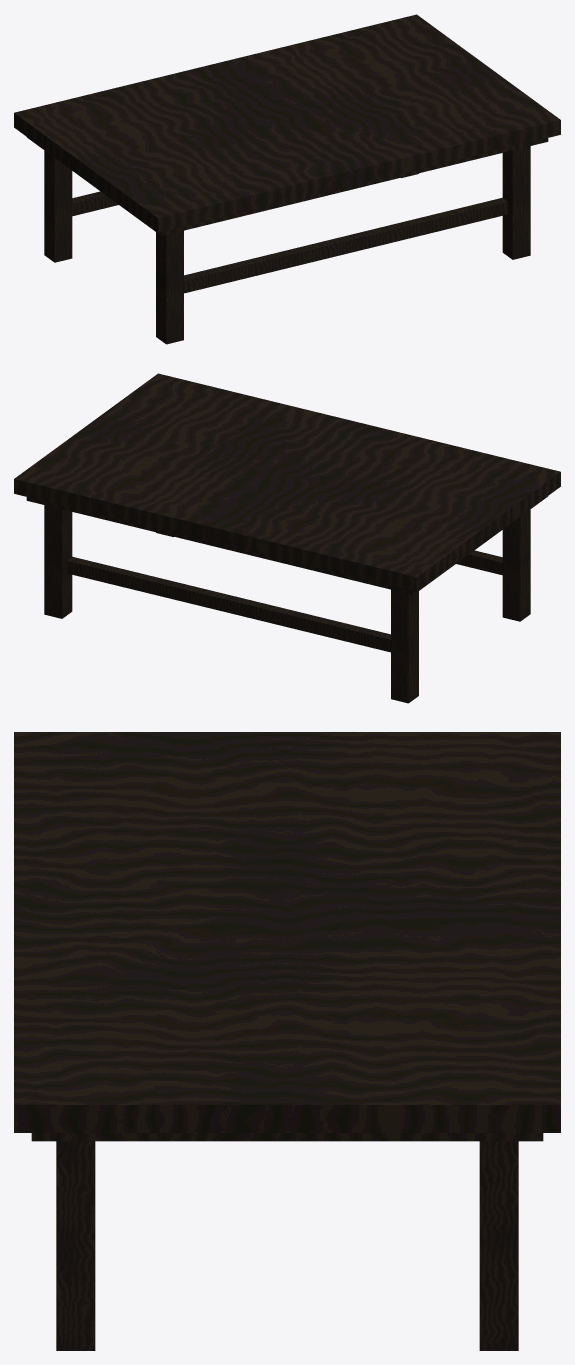
Rendered from low_table.glb.
3 renders of one model, top to bottom at view 1: azimuth 30°, elevation 25°; view 2: azimuth 150°, elevation 25°; view 3: azimuth 270°, elevation 25°, orthographic. The views are drawn at different scales.
Parts seen in each view (by area): view 1: low_table; view 2: low_table; view 3: low_table.
Boxes of the visible parts, x1,y1,x2,y2 form: low_table: (14,14,560,344); low_table: (14,373,560,703); low_table: (14,732,560,1350).
Bounding box in the file's own units: 1 × 0.33 × 0.62.
1 material, 1 textured.
